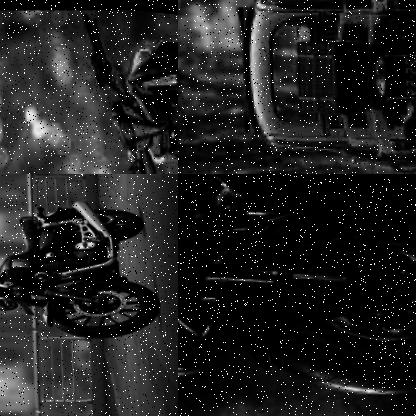bike: (178, 174, 416, 416), (0, 176, 176, 355), (66, 0, 178, 174)
car: (222, 0, 416, 174)
